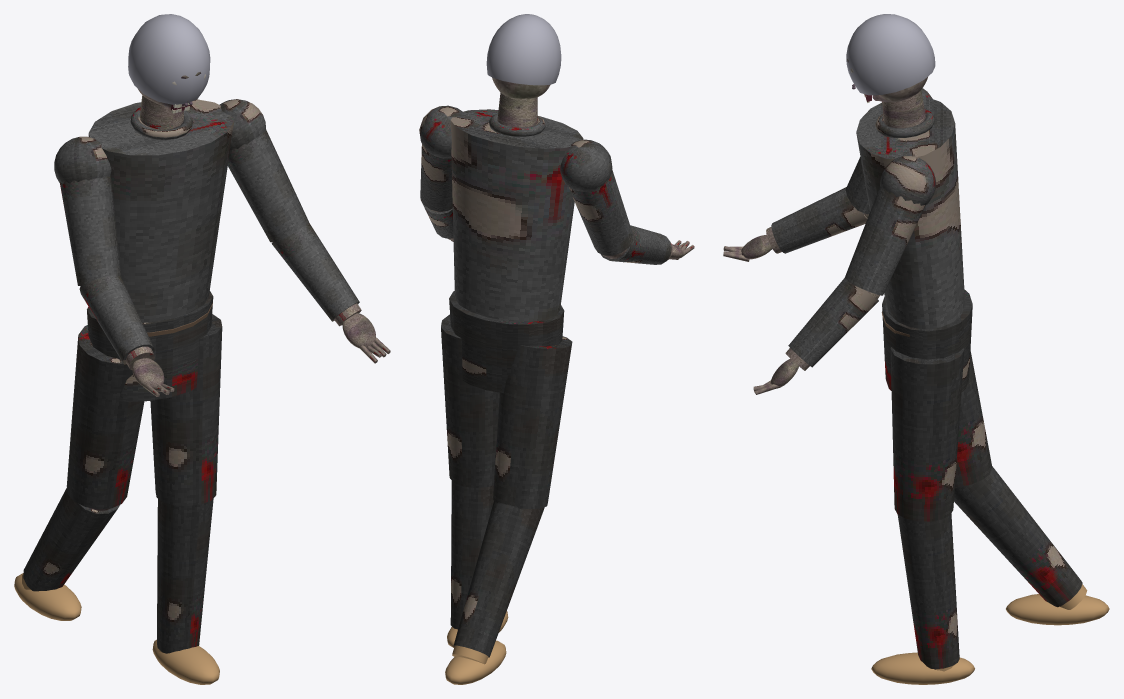
Rendered from Zombie_132.glb.
3 renders of one model, left to right at view 1: azimuth 30°, elevation 25°; view 2: azimuth 150°, elevation 25°; view 3: azimuth 270°, elevation 25°, orthographic. The views are drawn at different scales.
Visible parts, largest first — view 1: Zombie_132, object 43, object 12, object 4, object 13, object 5; view 2: Zombie_132, object 43, object 4, object 18, object 12; view 3: Zombie_132, object 43, object 12, object 4.
Part boxes in pixels (x1,y1,x2,y2): Zombie_132: [14, 95, 309, 684]; object 43: [128, 14, 210, 104]; object 12: [271, 223, 359, 321]; object 4: [79, 275, 154, 367]; object 13: [342, 313, 375, 348]; object 5: [132, 358, 164, 386]; Zombie_132: [419, 92, 632, 684]; object 43: [486, 14, 561, 85]; object 4: [600, 225, 671, 264]; object 18: [492, 77, 550, 98]; object 12: [420, 199, 453, 238]; Zombie_132: [845, 88, 1109, 684]; object 43: [846, 14, 935, 95]; object 12: [788, 278, 878, 367]; object 4: [771, 187, 867, 253].
Bounding box in the file's own units: 0.7971 × 2.03 × 1.1.
Materials: 16 (5 with a texture image).
